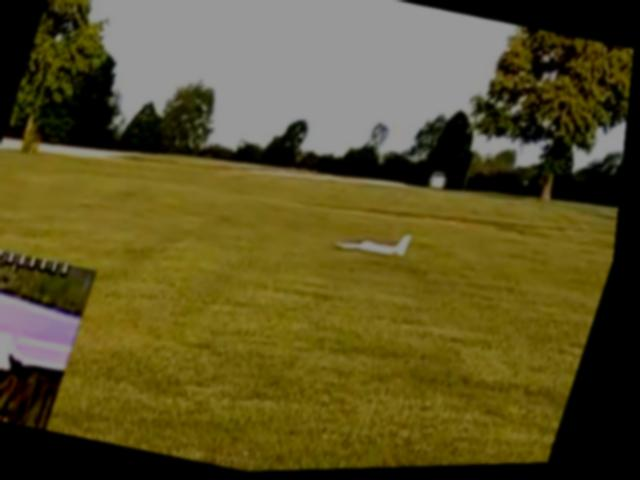iha: (337, 221, 417, 268)
